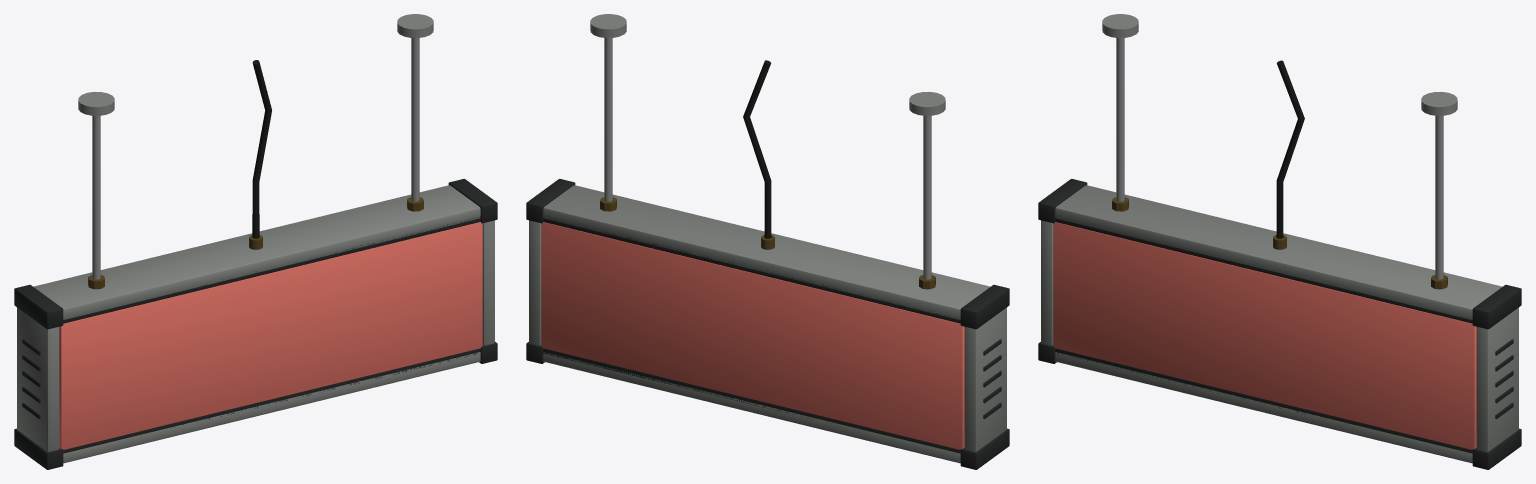
The model's file is CTCC_PROP_EmergencyLightBox.fbx.
3 renders of one model, left to right at view 1: azimuth 30°, elevation 25°; view 2: azimuth 150°, elevation 25°; view 3: azimuth 330°, elevation 25°, orthographic.
Visible parts, largest first — view 1: CTCC_PROP_EmergencyLightBox; view 2: CTCC_PROP_EmergencyLightBox; view 3: CTCC_PROP_EmergencyLightBox.
Boxes of the visible parts, x1=… form: CTCC_PROP_EmergencyLightBox: x1=14, y1=14, x2=497, y2=469; CTCC_PROP_EmergencyLightBox: x1=526, y1=14, x2=1009, y2=469; CTCC_PROP_EmergencyLightBox: x1=1038, y1=14, x2=1521, y2=469.
Size of the model in its own units: 1.19 by 0.863 by 0.153.
